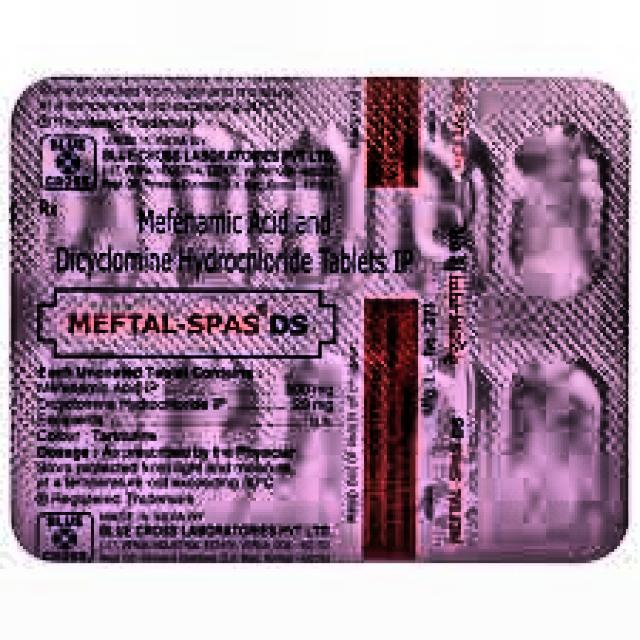Meftal: (49, 280, 328, 374)
